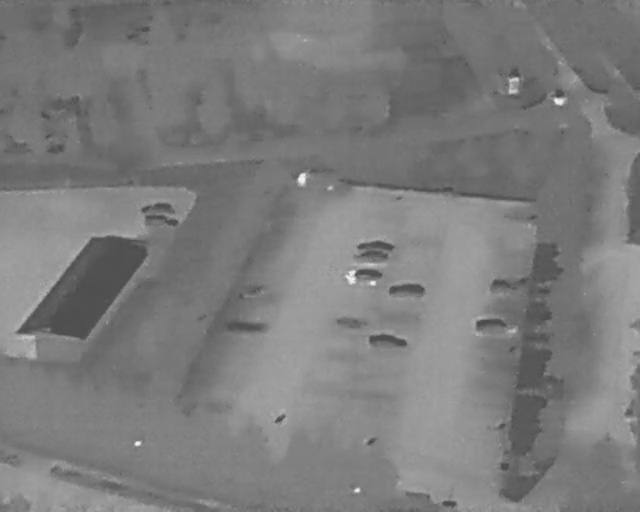Car: (474, 319, 517, 336), (367, 333, 408, 349), (488, 279, 522, 298), (344, 269, 382, 285), (388, 283, 426, 298), (356, 240, 395, 254), (144, 214, 179, 229), (352, 251, 389, 265), (140, 203, 176, 216)
